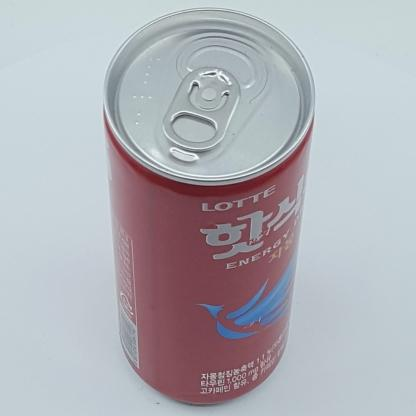-------250ML: (103, 7, 315, 404)
